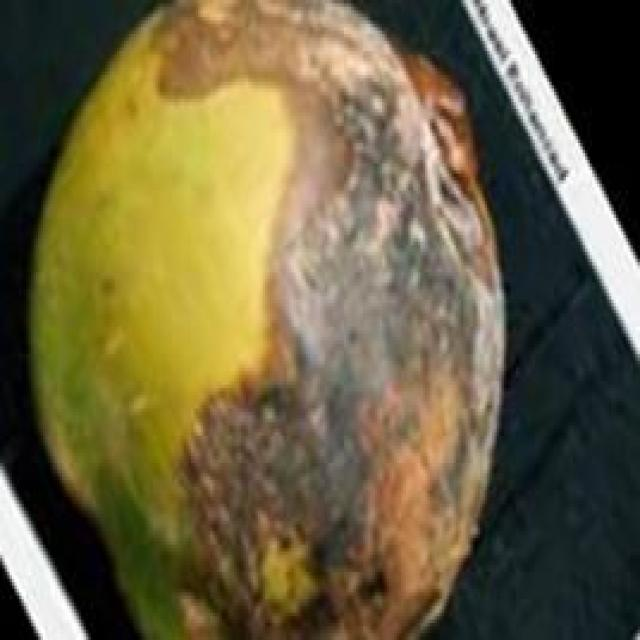damaged: (21, 0, 511, 637)
